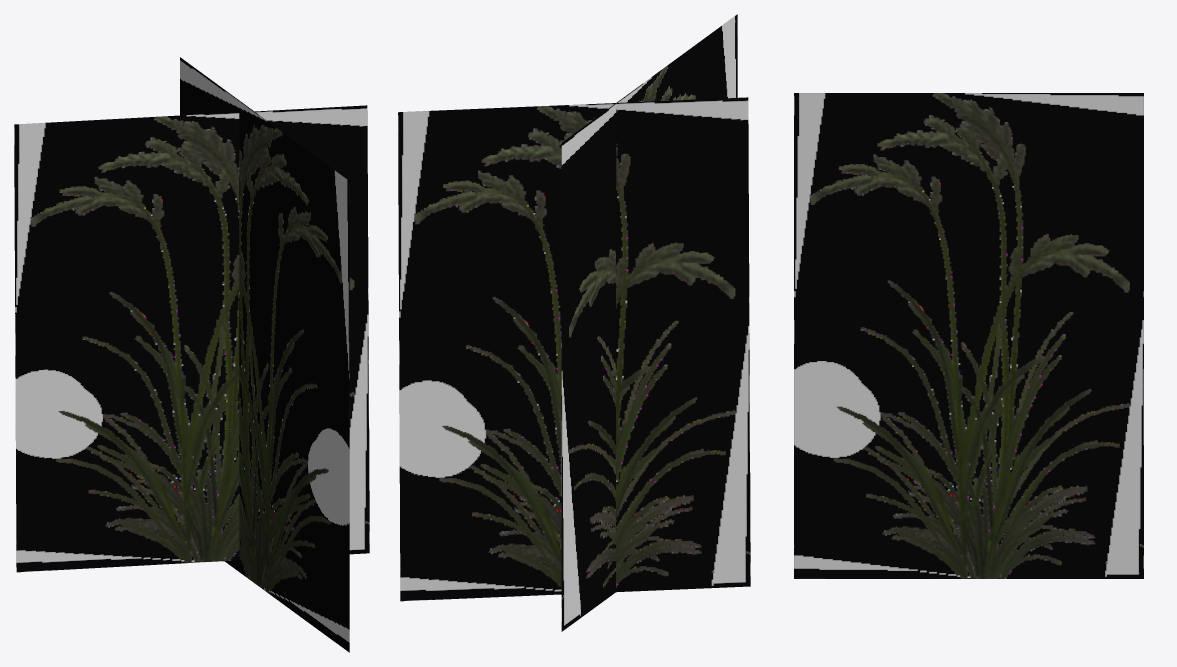
Rendered from GrassWeeds.gltf.
The picture shows the model from 3 angles, left to right: view 1: azimuth 30°, elevation 25°; view 2: azimuth 150°, elevation 25°; view 3: azimuth 270°, elevation 25°; orthographic projection. The views are drawn at different scales.
Visible parts, largest first — view 1: grass 10; view 2: grass 10; view 3: grass 10.
Boxes of the visible parts, box(x1,y1,x2,y2) form: grass 10: box(14, 57, 369, 652); grass 10: box(398, 14, 750, 631); grass 10: box(794, 93, 1143, 578).
Size of the model in its own units: 0.768 by 1.05 by 0.7212.
1 material, 1 textured.
